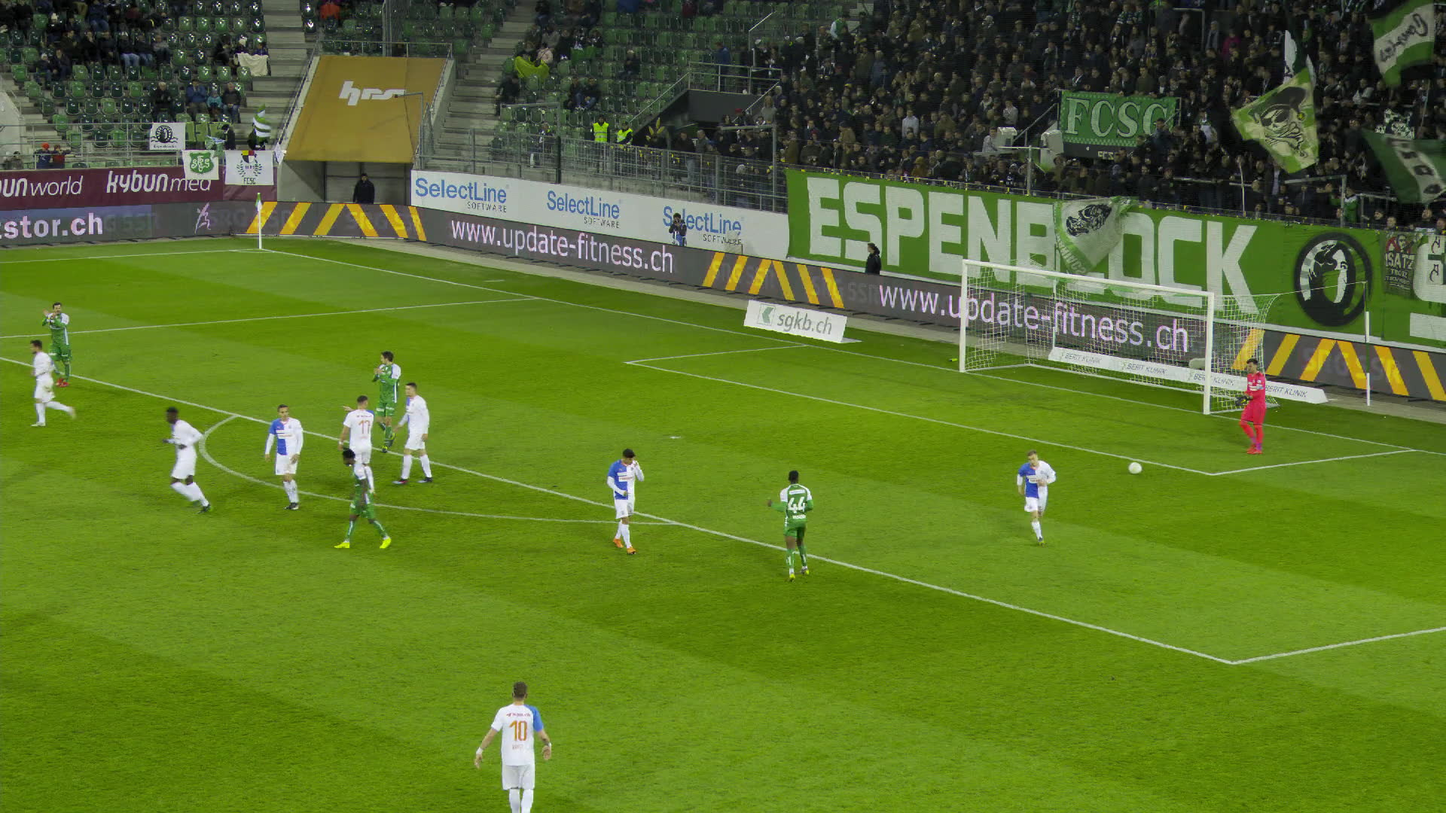ball: (1127, 462, 1141, 473)
player: (487, 672, 559, 812), (164, 408, 225, 514), (337, 443, 386, 549), (769, 466, 814, 577), (28, 336, 78, 429), (267, 403, 310, 510), (340, 395, 380, 500), (606, 445, 643, 553), (397, 380, 435, 484), (1234, 358, 1275, 454), (1017, 452, 1055, 540), (374, 352, 408, 448), (41, 303, 78, 386)
